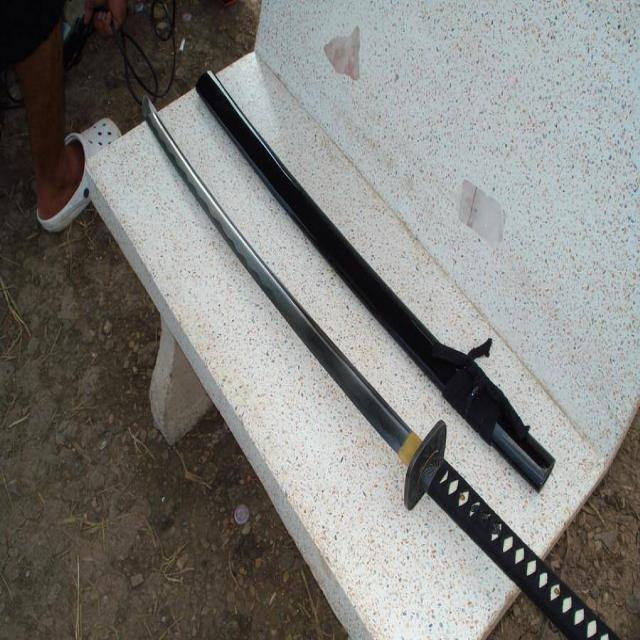long sword: (122, 68, 570, 610)
